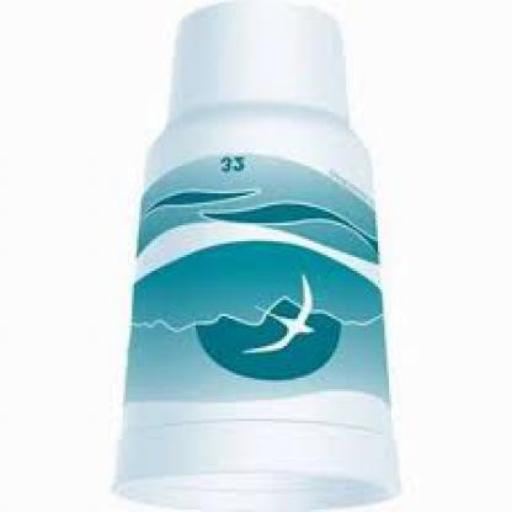paper: (111, 2, 396, 511)
